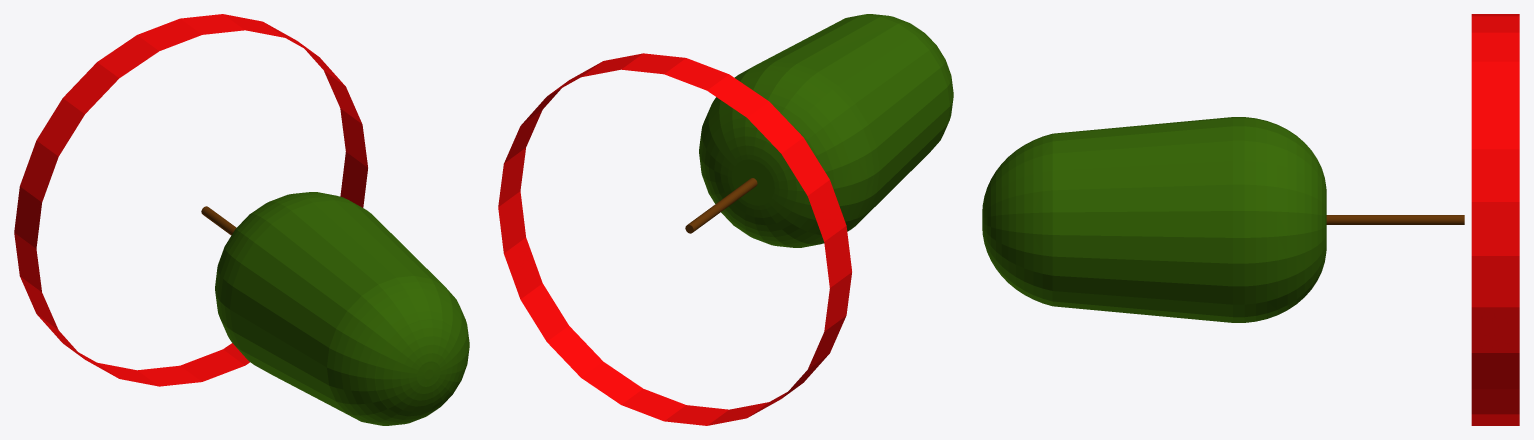
The model's file is HPSo7m.obj.
The picture shows the model from 3 angles, left to right: view 1: azimuth 30°, elevation 25°; view 2: azimuth 150°, elevation 25°; view 3: azimuth 270°, elevation 25°; orthographic projection. The views are drawn at different scales.
Size of the model in its own units: 6 by 6 by 7.8.
